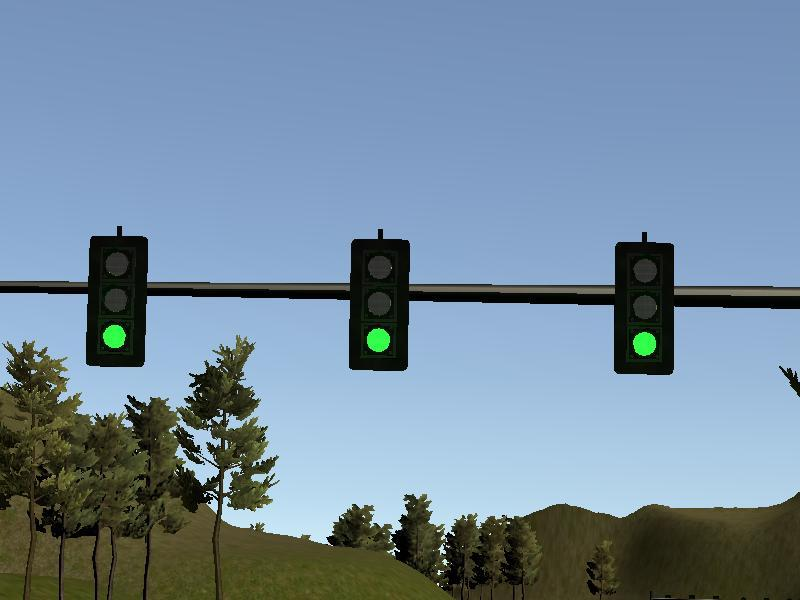Green: (615, 241, 672, 374), (350, 240, 405, 368), (90, 239, 144, 362)
